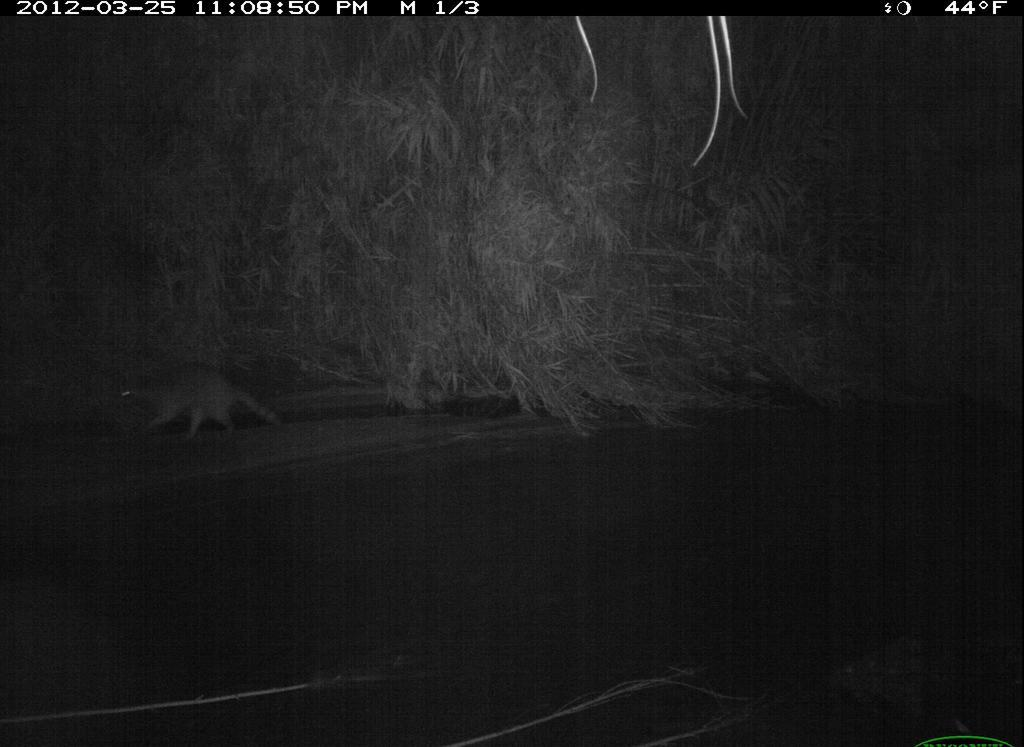raccoon: (90, 342, 301, 449)
